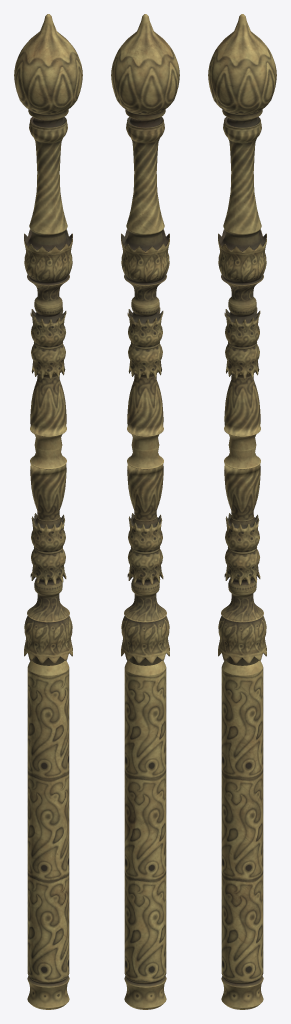
The model's file is SM_Weapons_02.fbx.
3 views of the same model, side by side, from view 1: azimuth 30°, elevation 25°; view 2: azimuth 150°, elevation 25°; view 3: azimuth 330°, elevation 25° (orthographic).
Visible parts, largest first — view 1: SM_Weapons_02_LOD0; view 2: SM_Weapons_02_LOD0; view 3: SM_Weapons_02_LOD0.
Part boxes in pixels (box(x1,y1,x2,y2)): SM_Weapons_02_LOD0: box(14, 14, 82, 1009); SM_Weapons_02_LOD0: box(111, 14, 179, 1009); SM_Weapons_02_LOD0: box(208, 14, 276, 1009).
Bounding box in the file's own units: 0.3558 × 0.3558 × 5.64.
